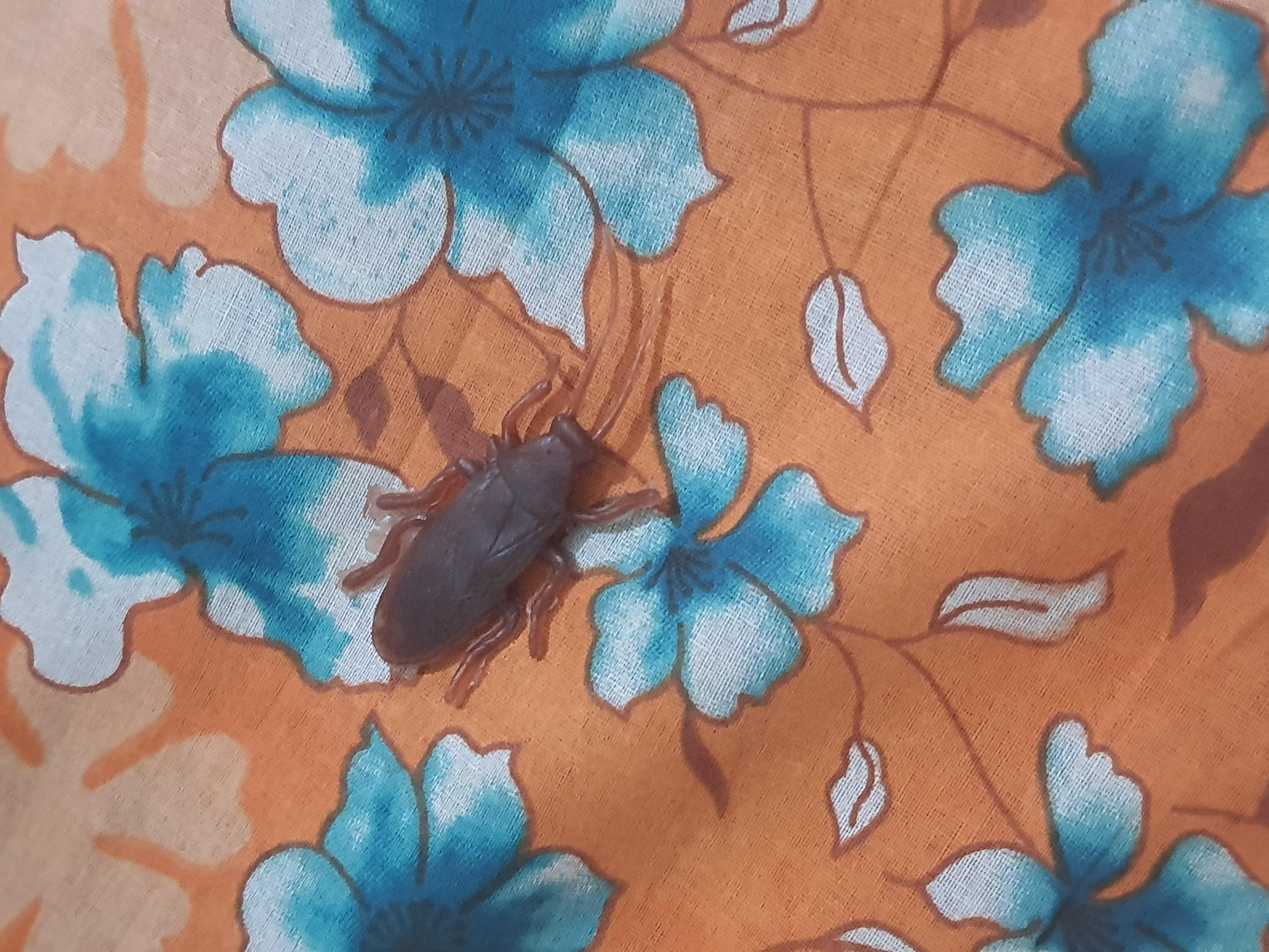cockroach: (272, 275, 903, 496)
